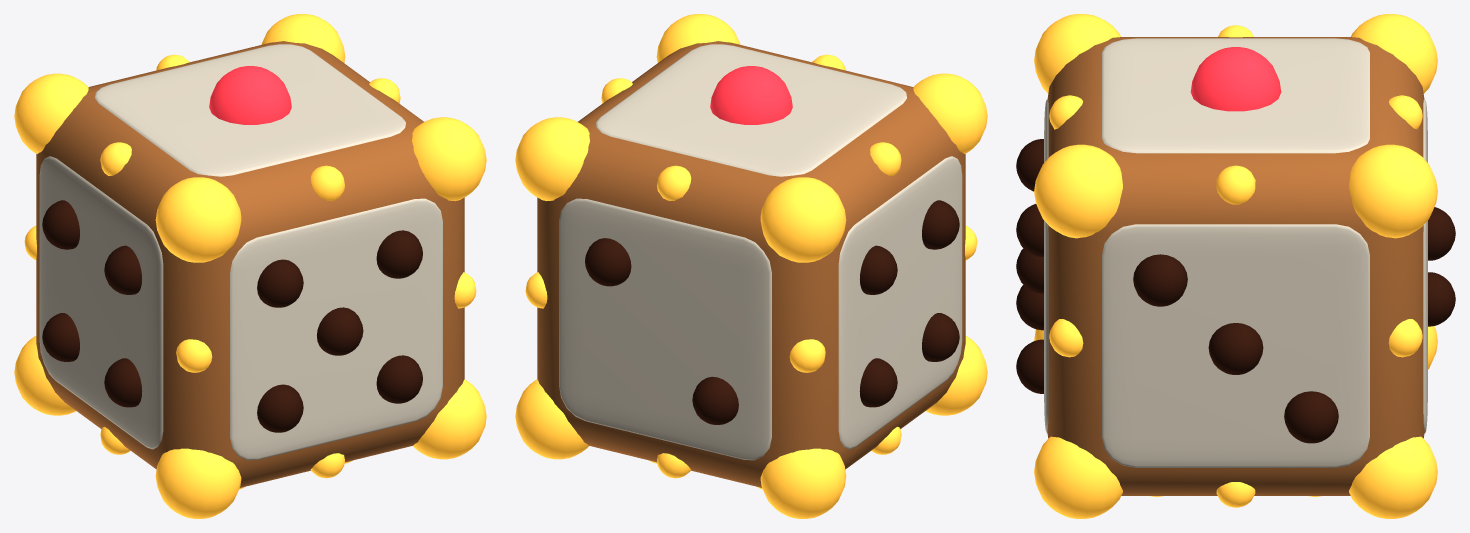
File: bwed-dice.glb
3 views of the same model, side by side, from view 1: azimuth 30°, elevation 25°; view 2: azimuth 150°, elevation 25°; view 3: azimuth 270°, elevation 25° (orthographic). The views are drawn at different scales.
Visible parts, largest first — view 1: BriocheDiceBody, Cube.003, Cube.005, Cube, Sphere.022, Sphere.021, Sphere.026, Sphere, Sphere.024, Sphere.025, Sphere.023, Sphere.028 (+14 smaller); view 2: BriocheDiceBody, Cube.002, Cube.005, Cube, Sphere.024, Sphere.023, Sphere.028, Sphere, Sphere.022, Sphere.027, Sphere.021, Sphere.026 (+11 smaller); view 3: Cube.004, BriocheDiceBody, Cube, Sphere.026, Sphere.028, Sphere.025, Sphere.027, Sphere, Sphere.022, Sphere.024, Sphere.016, Sphere.014 (+16 smaller).
Part boxes in pixels (x1=…): BriocheDiceBody: x1=36, y1=41, x2=464, y2=487; Cube.003: x1=230, y1=198, x2=442, y2=460; Cube.005: x1=39, y1=156, x2=163, y2=449; Cube: x1=95, y1=44, x2=405, y2=176; Sphere.022: x1=155, y1=177, x2=241, y2=262; Sphere.021: x1=155, y1=448, x2=241, y2=518; Sphere.026: x1=412, y1=117, x2=486, y2=201; Sphere: x1=209, y1=66, x2=291, y2=124; Sphere.024: x1=14, y1=73, x2=88, y2=153; Sphere.025: x1=413, y1=379, x2=486, y2=459; Sphere.023: x1=14, y1=336, x2=75, y2=415; Sphere.028: x1=261, y1=14, x2=345, y2=62; BriocheDiceBody: x1=537, y1=41, x2=965, y2=487; Cube.002: x1=559, y1=198, x2=771, y2=460; Cube.005: x1=838, y1=156, x2=962, y2=449; Cube: x1=596, y1=44, x2=906, y2=176; Sphere.024: x1=760, y1=177, x2=846, y2=262; Sphere.023: x1=760, y1=448, x2=846, y2=518; Sphere.028: x1=515, y1=117, x2=589, y2=201; Sphere: x1=710, y1=66, x2=792, y2=124; Sphere.022: x1=913, y1=73, x2=987, y2=153; Sphere.027: x1=515, y1=379, x2=588, y2=459; Sphere.021: x1=926, y1=336, x2=987, y2=415; Sphere.026: x1=656, y1=14, x2=740, y2=62; Cube.004: x1=1102, y1=224, x2=1369, y2=467; BriocheDiceBody: x1=1047, y1=37, x2=1424, y2=495; Cube: x1=1102, y1=38, x2=1369, y2=153; Sphere.026: x1=1034, y1=144, x2=1122, y2=238; Sphere.028: x1=1349, y1=144, x2=1437, y2=238; Sphere.025: x1=1034, y1=436, x2=1122, y2=518; Sphere.027: x1=1349, y1=436, x2=1437, y2=518; Sphere: x1=1190, y1=47, x2=1281, y2=111; Sphere.022: x1=1034, y1=14, x2=1120, y2=93; Sphere.024: x1=1351, y1=14, x2=1437, y2=93; Sphere.016: x1=1284, y1=391, x2=1338, y2=443; Sphere.014: x1=1133, y1=254, x2=1187, y2=306.
Bounding box in the file's own units: 2.33 × 2.42 × 2.33.
